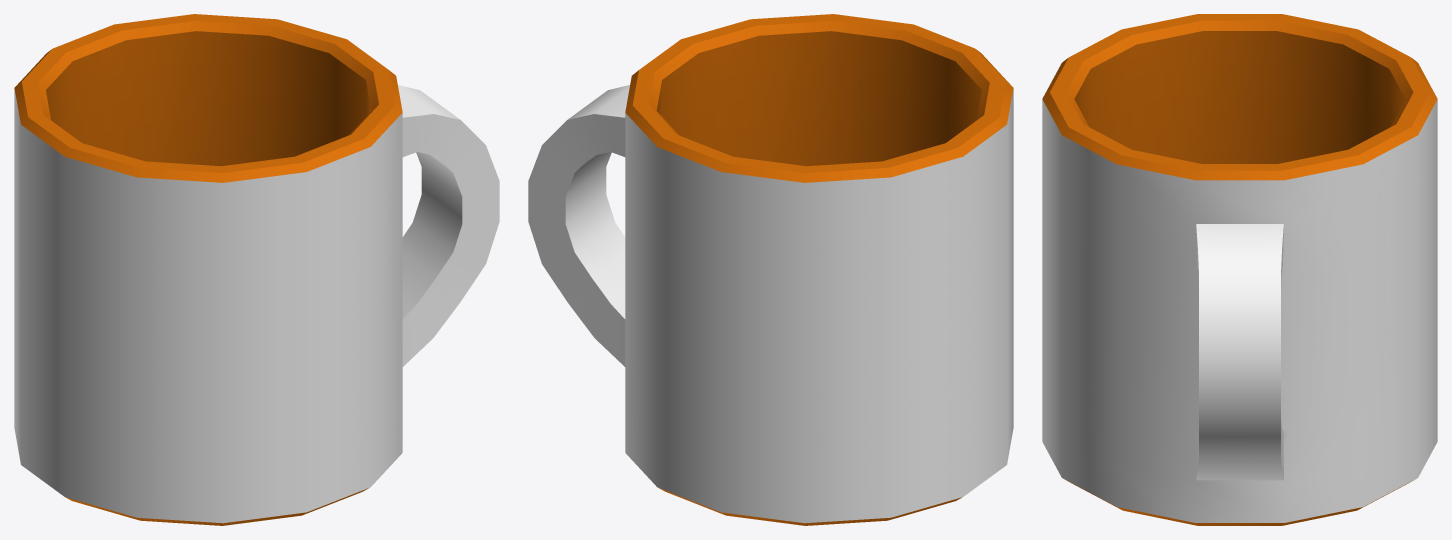
The model's file is controller-5.glb.
The picture shows the model from 3 angles, left to right: view 1: azimuth 30°, elevation 25°; view 2: azimuth 150°, elevation 25°; view 3: azimuth 270°, elevation 25°; orthographic projection.
Visible parts, largest first — view 1: Cylinder; view 2: Cylinder; view 3: Cylinder.
Boxes of the visible parts, bbox=[...] form: Cylinder: bbox=[14, 14, 499, 525]; Cylinder: bbox=[528, 14, 1013, 525]; Cylinder: bbox=[1042, 14, 1437, 525].
Bounding box in the file's own units: 0.2567 × 0.1988 × 0.2.
1 material, 1 textured.
